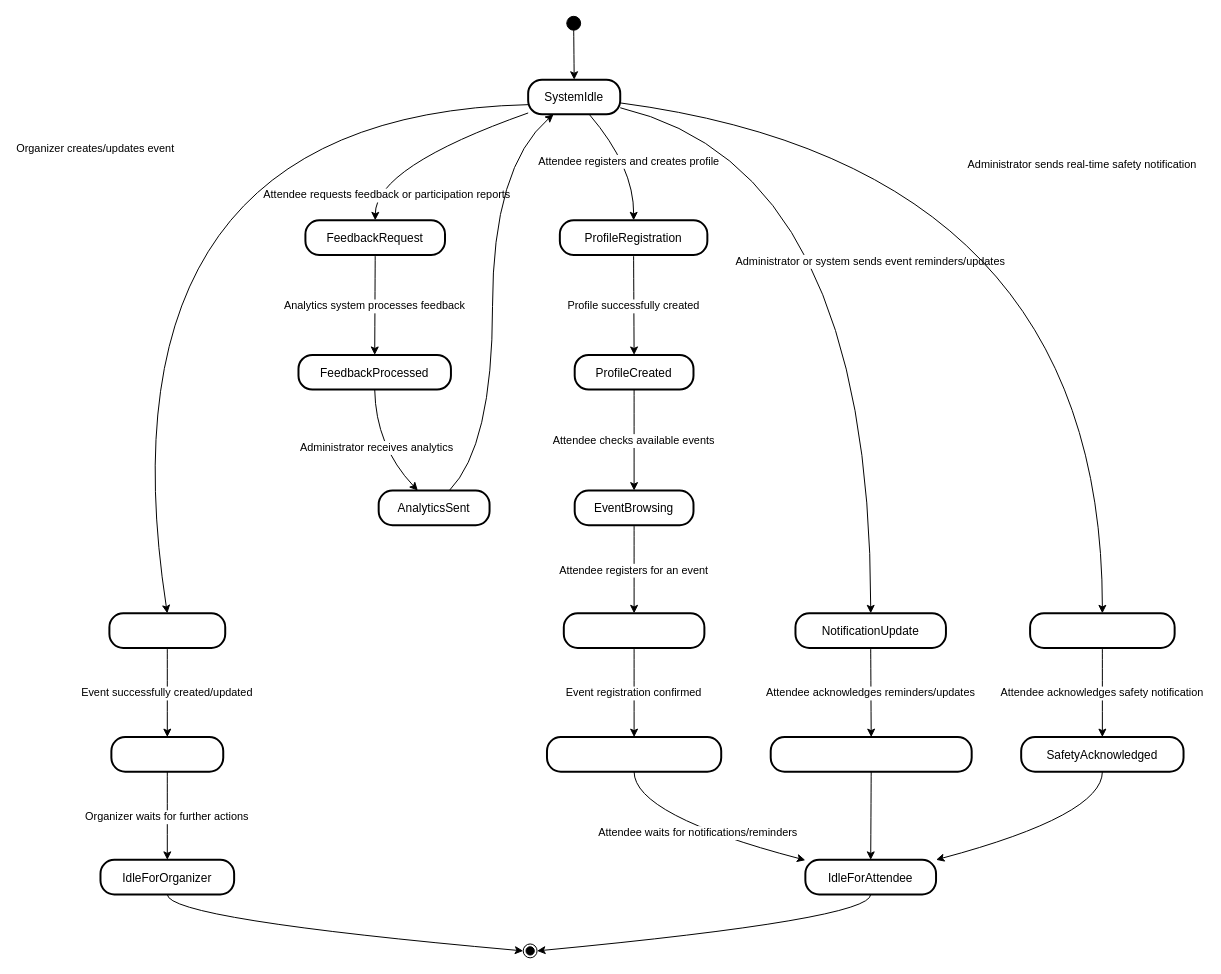
The diagram is 1221 pixels wide and 974 high, and some of its shapes have lost their labels. The shapes that lost their labels are listed below. From the top down, each one's centre as x and y in pixels, then its label:
At point 167,630: "EventCreation".
At point 633,630: "EventRegistration".
At point 1102,630: "SafetyNotification".
At point 167,754: "EventCreated".
At point 633,754: "RegistrationConfirmed".
At point 870,754: "NotificationAcknowledged".
